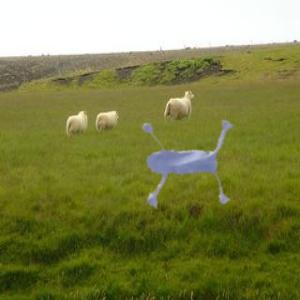drone: (98, 71, 272, 245)
